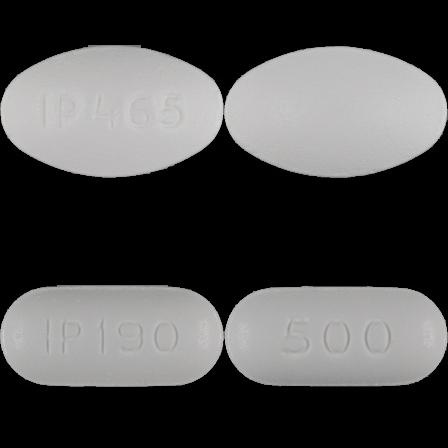10544-015: (0, 0, 224, 224)
